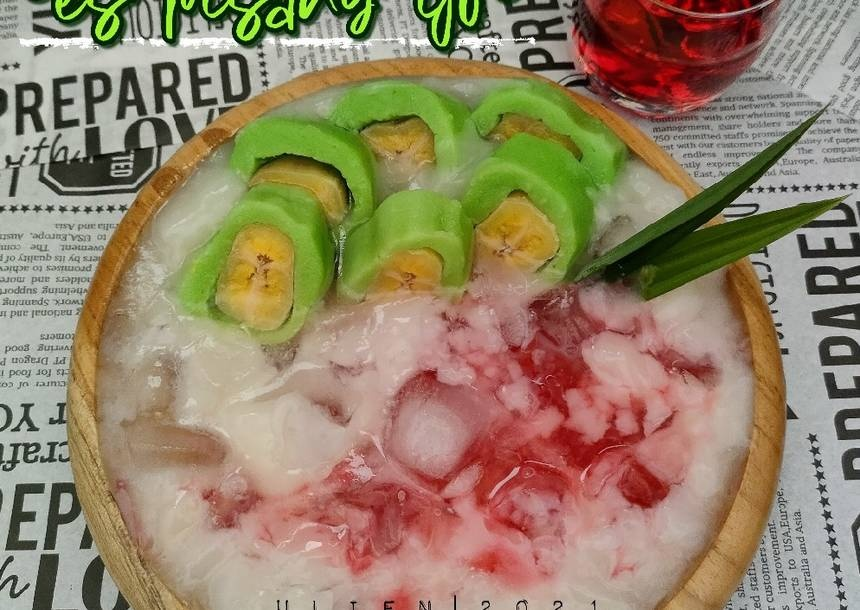pisang_ijo: (191, 197, 321, 355)
